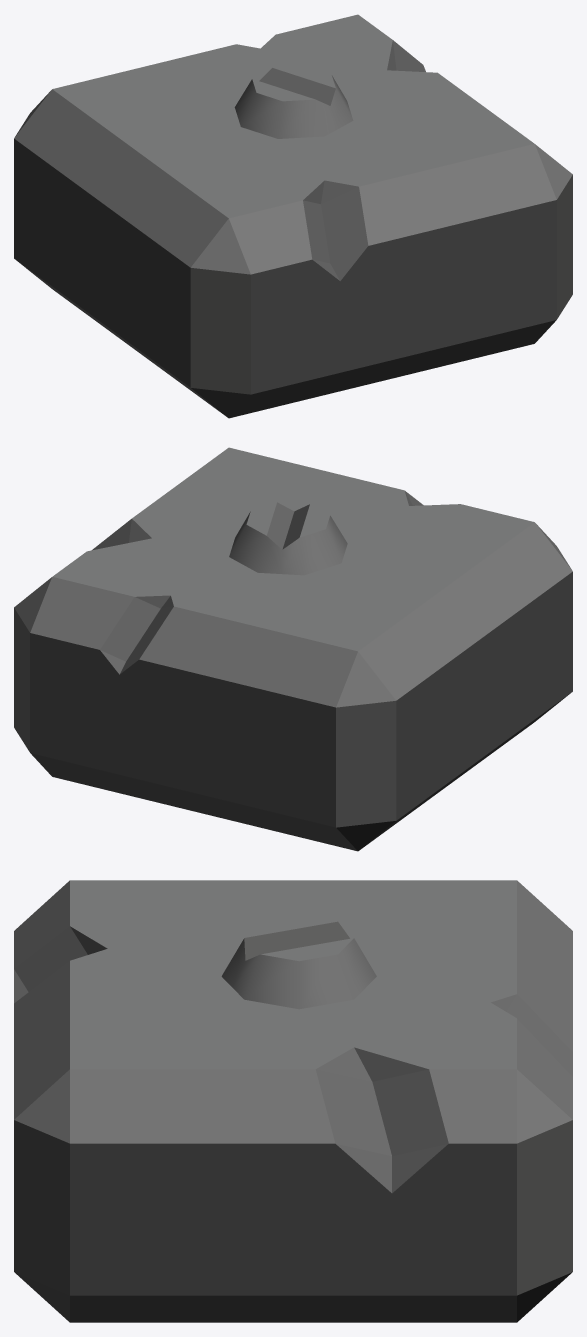
File: m_kub_metalOld_flatMini.FBX
3 views of the same model, one above another, from view 1: azimuth 30°, elevation 25°; view 2: azimuth 150°, elevation 25°; view 3: azimuth 270°, elevation 25° (orthographic). The views are drawn at different scales.
Visible parts, largest first — view 1: m_kub_metalOld_flatMini; view 2: m_kub_metalOld_flatMini; view 3: m_kub_metalOld_flatMini.
Boxes of the visible parts, x1,y1,x2,y2 form: m_kub_metalOld_flatMini: (14,14,572,418); m_kub_metalOld_flatMini: (14,447,572,851); m_kub_metalOld_flatMini: (14,880,572,1322).
Size of the model in its own units: 1 by 0.5761 by 1.
